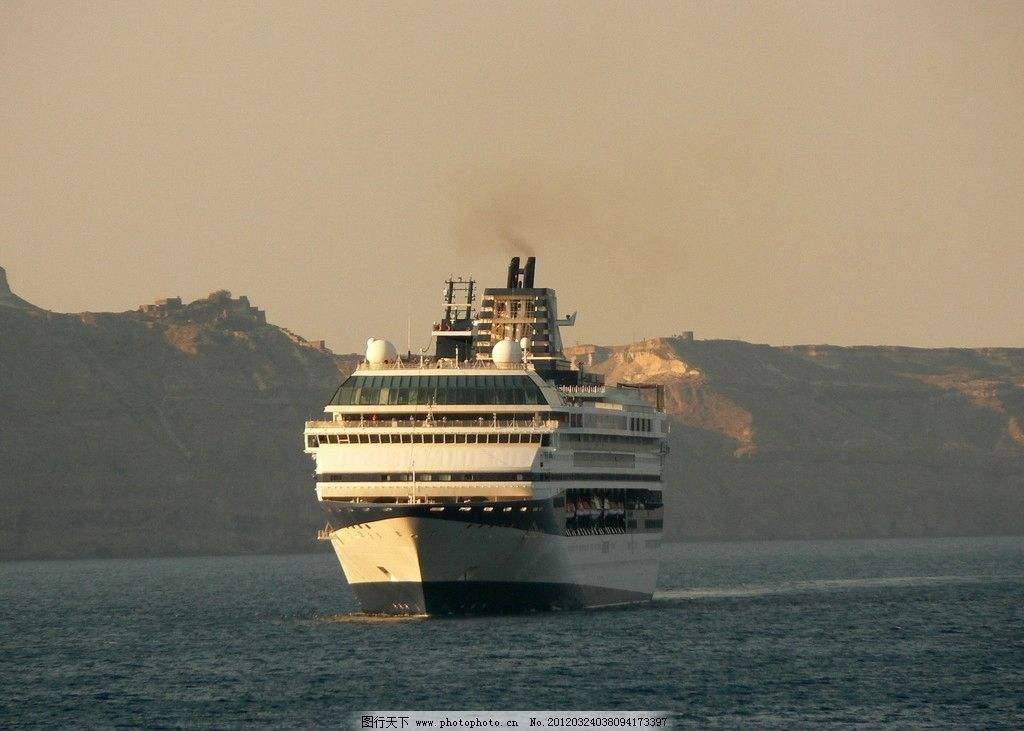youlun: (312, 248, 673, 620)
